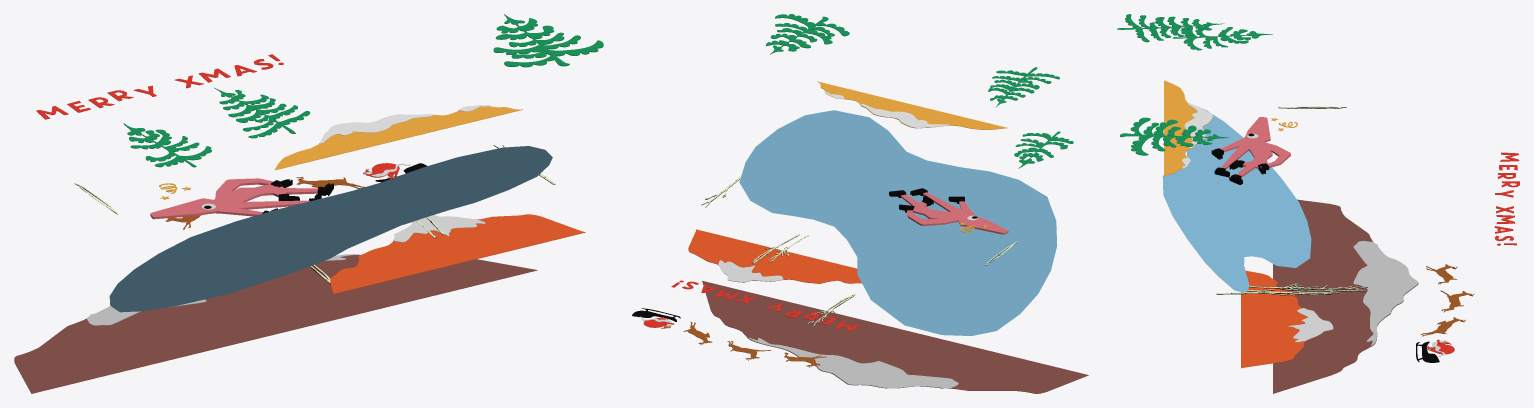
Rendered from asset.gltf.
3 views of the same model, side by side, from view 1: azimuth 30°, elevation 25°; view 2: azimuth 150°, elevation 25°; view 3: azimuth 270°, elevation 25° (orthographic). The views are drawn at different scales.
Visible parts, largest first — view 1: lake, snowPeakBIG, snowPeakMED, snowPeakSML, octopus, tree3, tree2, tree1, snowPeakMED1, snowPeakSML1, snowPeakBIG1; view 2: lake, snowPeakBIG, snowPeakMED, snowPeakBIG1, snowPeakSML, octopus, tree3, tree2, tree1, snowPeakMED1, snowPeakSML1; view 3: lake, snowPeakBIG, snowPeakMED, snowPeakBIG1, snowPeakSML, octopus, tree3, tree2, tree1, snowPeakMED1, snowPeakSML1.
Boxes of the visible parts, bbox=[...] form: lake: bbox=[109, 146, 552, 312]; snowPeakBIG: bbox=[14, 254, 537, 393]; snowPeakMED: bbox=[330, 214, 585, 293]; snowPeakSML: bbox=[275, 106, 522, 170]; octopus: bbox=[150, 178, 317, 219]; tree3: bbox=[493, 14, 603, 67]; tree2: bbox=[214, 87, 310, 138]; tree1: bbox=[123, 123, 211, 167]; snowPeakMED1: bbox=[393, 215, 485, 242]; snowPeakSML1: bbox=[319, 114, 434, 143]; snowPeakBIG1: bbox=[86, 254, 354, 325]; lake: bbox=[739, 110, 1057, 335]; snowPeakBIG: bbox=[702, 280, 1088, 393]; snowPeakMED: bbox=[688, 229, 861, 283]; snowPeakBIG1: bbox=[748, 337, 958, 388]; snowPeakSML: bbox=[818, 81, 1007, 129]; octopus: bbox=[900, 192, 1008, 234]; tree3: bbox=[766, 14, 849, 54]; tree2: bbox=[988, 67, 1059, 107]; tree1: bbox=[1014, 131, 1073, 168]; snowPeakMED1: bbox=[717, 260, 783, 282]; snowPeakSML1: bbox=[860, 103, 949, 128]; lake: bbox=[1162, 103, 1311, 292]; snowPeakBIG: bbox=[1273, 199, 1418, 393]; snowPeakMED: bbox=[1241, 270, 1330, 368]; snowPeakBIG1: bbox=[1353, 241, 1418, 345]; snowPeakSML: bbox=[1164, 80, 1212, 176]; octopus: bbox=[1221, 117, 1290, 177]; tree3: bbox=[1120, 117, 1228, 155]; tree2: bbox=[1117, 14, 1224, 42]; tree1: bbox=[1172, 26, 1272, 50]; snowPeakMED1: bbox=[1288, 308, 1333, 342]; snowPeakSML1: bbox=[1184, 103, 1212, 148].
Bounding box in the file's own units: 9.78 × 5.11 × 8.
